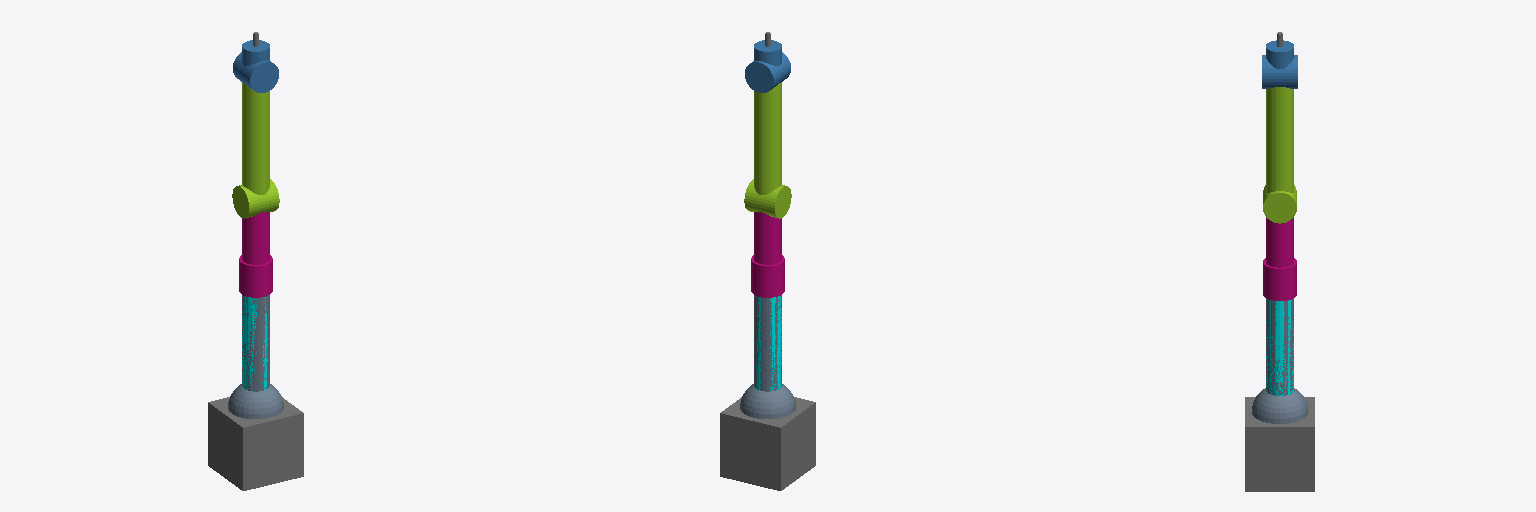
URDF robot description (test_robot):
<?xml version="1.0" ?>
<robot name="test_robot">
    <link name="base_link">
        <inertial>
            <mass value="1.0"/>
            <inertia ixx="0.010416666666666666" iyy="0.010416666666666666" izz="0.010416666666666666" ixy="0.0" ixz="0.0" iyz="0.0"/>
            <origin xyz="0 0 0" rpy="0 0 0"/>
        </inertial>
        <visual>
            <origin xyz="0 0 0" rpy="0 0 0"/>
            <geometry>
                <box size="0.25 0.25 0.25"/>
            </geometry>
            <material name="gray">
                <color rgba="0.5 0.5 0.5 1"/>
            </material>
        </visual>
    </link>
    <joint name="sph_joint_x_1" type="revolute">
        <parent link="base_link"/>
        <child link="sph_link_x_1"/>
        <origin xyz="0 0 0.125" rpy="0 0 0"/>
        <axis xyz="1 0 0"/>
        <limit lower="-3.14" upper="3.14" effort="10" velocity="1"/>
    </joint>
    <link name="sph_link_x_1">
        <inertial>
            <mass value="0.001"/>
            <inertia ixx="4.000000000000001e-06" iyy="4.000000000000001e-06" izz="4.000000000000001e-06" ixy="0.0" ixz="0.0" iyz="0.0"/>
            <origin xyz="0 0 0" rpy="0 0 0"/>
        </inertial>
        <visual>
            <origin xyz="0 0 0" rpy="0 0 0"/>
            <geometry>
                <sphere radius="0.1"/>
            </geometry>
            <material name="lightslategray">
                <color rgba="0.4666666666666667 0.5333333333333333 0.6 1.0"/>
            </material>
        </visual>
    </link>
    <joint name="sph_joint_y_1" type="revolute">
        <parent link="sph_link_x_1"/>
        <child link="sph_link_y_1"/>
        <origin xyz="0 0 0" rpy="0 0 0"/>
        <axis xyz="0 1 0"/>
        <limit lower="-3.14" upper="3.14" effort="10" velocity="1"/>
    </joint>
    <link name="sph_link_y_1">
        <inertial>
            <mass value="0.001"/>
            <inertia ixx="4.000000000000001e-06" iyy="4.000000000000001e-06" izz="4.000000000000001e-06" ixy="0.0" ixz="0.0" iyz="0.0"/>
            <origin xyz="0 0 0" rpy="0 0 0"/>
        </inertial>
        <visual>
            <origin xyz="0 0 0" rpy="0 0 0"/>
            <geometry>
                <sphere radius="0.1"/>
            </geometry>
            <material name="lightslategray">
                <color rgba="0.4666666666666667 0.5333333333333333 0.6 1.0"/>
            </material>
        </visual>
    </link>
    <joint name="sph_joint_z_1" type="revolute">
        <parent link="sph_link_y_1"/>
        <child link="sph_link_z_1"/>
        <origin xyz="0 0 0" rpy="0 0 0"/>
        <axis xyz="0 0 1"/>
        <limit lower="-3.14" upper="3.14" effort="10" velocity="1"/>
    </joint>
    <link name="sph_link_z_1">
        <inertial>
            <mass value="0.001"/>
            <inertia ixx="4.000000000000001e-06" iyy="4.000000000000001e-06" izz="4.000000000000001e-06" ixy="0.0" ixz="0.0" iyz="0.0"/>
            <origin xyz="0 0 0" rpy="0 0 0"/>
        </inertial>
        <visual>
            <origin xyz="0 0 0" rpy="0 0 0"/>
            <geometry>
                <sphere radius="0.1"/>
            </geometry>
            <material name="lightslategray">
                <color rgba="0.4666666666666667 0.5333333333333333 0.6 1.0"/>
            </material>
        </visual>
    </link>
    <joint name="joint0" type="fixed">
        <parent link="sph_link_z_1"/>
        <child link="link0"/>
        <origin xyz="0 0 0" rpy="0 0 0"/>
    </joint>
    <link name="link0">
        <inertial>
            <mass value="1.0"/>
            <inertia ixx="0.021458333333333333" iyy="0.021458333333333333" izz="0.0012500000000000002" ixy="0.0" ixz="0.0" iyz="0.0"/>
            <origin xyz="0 0 0.25" rpy="0 0 0"/>
        </inertial>
        <visual>
            <origin xyz="0 0 0.25" rpy="0 0 0"/>
            <geometry>
                <cylinder length="0.5" radius="0.05"/>
            </geometry>
            <material name="lightslategray">
                <color rgba="0.4666666666666667 0.5333333333333333 0.6 1.0"/>
            </material>
        </visual>
        <collision>
            <origin xyz="0 0 0.25" rpy="0 0 0"/>
            <geometry>
                <cylinder length="0.5" radius="0.05"/>
            </geometry>
        </collision>
    </link>
    <joint name="joint1" type="prismatic">
        <parent link="link0"/>
        <child link="link1"/>
        <origin xyz="0 0 0.061" rpy="0 0 0"/>
        <axis xyz="0 0 1"/>
        <limit lower="0" upper="0.45" effort="10" velocity="1"/>
    </joint>
    <link name="link1">
        <inertial>
            <mass value="1.0"/>
            <inertia ixx="0.018335083333333335" iyy="0.018335083333333335" izz="0.0012500000000000002" ixy="0.0" ixz="0.0" iyz="0.0"/>
            <origin xyz="0 0 0.2305" rpy="0 0 0"/>
        </inertial>
        <visual>
            <origin xyz="0 0 0.2305" rpy="0 0 0"/>
            <geometry>
                <cylinder length="0.461" radius="0.05"/>
            </geometry>
            <material name="aqua">
                <color rgba="0.0 1.0 1.0 1.0"/>
            </material>
        </visual>
        <collision>
            <origin xyz="0 0 0.2305" rpy="0 0 0"/>
            <geometry>
                <cylinder length="0.461" radius="0.05"/>
            </geometry>
        </collision>
    </link>
    <joint name="joint_viz2" type="fixed">
        <parent link="link1"/>
        <child link="joint_viz_link2"/>
        <origin xyz="0 0 0.461" rpy="0 0 0"/>
    </joint>
    <link name="joint_viz_link2">
        <inertial>
            <mass value="0.0"/>
            <inertia ixx="0.0" iyy="0.0" izz="0.0" ixy="0.0" ixz="0.0" iyz="0.0"/>
            <origin xyz="0 0 0" rpy="0 0 0"/>
        </inertial>
        <visual>
            <origin xyz="0 0 0" rpy="0 0 0"/>
            <geometry>
                <cylinder length="0.125" radius="0.06"/>
            </geometry>
            <material name="mediumvioletred">
                <color rgba="0.7803921568627451 0.08235294117647059 0.5215686274509804 1.0"/>
            </material>
        </visual>
    </link>
    <joint name="joint2" type="revolute">
        <parent link="link1"/>
        <child link="link2"/>
        <origin xyz="0 0 0.461" rpy="0 0 0"/>
        <axis xyz="0 0 1"/>
        <limit lower="-3.14" upper="3.14" effort="10" velocity="1"/>
    </joint>
    <link name="link2">
        <inertial>
            <mass value="1.0"/>
            <inertia ixx="0.008125" iyy="0.008125" izz="0.0012500000000000002" ixy="0.0" ixz="0.0" iyz="0.0"/>
            <origin xyz="0 0 0.15" rpy="0 0 0"/>
        </inertial>
        <visual>
            <origin xyz="0 0 0.15" rpy="0 0 0"/>
            <geometry>
                <cylinder length="0.3" radius="0.05"/>
            </geometry>
            <material name="mediumvioletred">
                <color rgba="0.7803921568627451 0.08235294117647059 0.5215686274509804 1.0"/>
            </material>
        </visual>
        <collision>
            <origin xyz="0 0 0.15" rpy="0 0 0"/>
            <geometry>
                <cylinder length="0.3" radius="0.05"/>
            </geometry>
        </collision>
    </link>
    <joint name="joint_viz3" type="fixed">
        <parent link="link2"/>
        <child link="joint_viz_link3"/>
        <origin xyz="0 0 0.3" rpy="0 0 0"/>
    </joint>
    <link name="joint_viz_link3">
        <inertial>
            <mass value="0.0"/>
            <inertia ixx="0.0" iyy="0.0" izz="0.0" ixy="0.0" ixz="0.0" iyz="0.0"/>
            <origin xyz="0 0 0" rpy="0 1.57 0"/>
        </inertial>
        <visual>
            <origin xyz="0 0 0" rpy="0 1.57 0"/>
            <geometry>
                <cylinder length="0.125" radius="0.06"/>
            </geometry>
            <material name="yellowgreen">
                <color rgba="0.6039215686274509 0.803921568627451 0.19607843137254902 1.0"/>
            </material>
        </visual>
    </link>
    <joint name="joint3" type="revolute">
        <parent link="link2"/>
        <child link="link3"/>
        <origin xyz="0 0 0.3" rpy="0 0 0"/>
        <axis xyz="1 0 0"/>
        <limit lower="-3.14" upper="3.14" effort="10" velocity="1"/>
    </joint>
    <link name="link3">
        <inertial>
            <mass value="1.0"/>
            <inertia ixx="0.021458333333333333" iyy="0.021458333333333333" izz="0.0012500000000000002" ixy="0.0" ixz="0.0" iyz="0.0"/>
            <origin xyz="0 0 0.25" rpy="0 0 0"/>
        </inertial>
        <visual>
            <origin xyz="0 0 0.25" rpy="0 0 0"/>
            <geometry>
                <cylinder length="0.5" radius="0.05"/>
            </geometry>
            <material name="yellowgreen">
                <color rgba="0.6039215686274509 0.803921568627451 0.19607843137254902 1.0"/>
            </material>
        </visual>
        <collision>
            <origin xyz="0 0 0.25" rpy="0 0 0"/>
            <geometry>
                <cylinder length="0.5" radius="0.05"/>
            </geometry>
        </collision>
    </link>
    <joint name="joint_viz4" type="fixed">
        <parent link="link3"/>
        <child link="joint_viz_link4"/>
        <origin xyz="0 0 0.5" rpy="0 0 0"/>
    </joint>
    <link name="joint_viz_link4">
        <inertial>
            <mass value="0.0"/>
            <inertia ixx="0.0" iyy="0.0" izz="0.0" ixy="0.0" ixz="0.0" iyz="0.0"/>
            <origin xyz="0 0 0" rpy="1.57 0 0"/>
        </inertial>
        <visual>
            <origin xyz="0 0 0" rpy="1.57 0 0"/>
            <geometry>
                <cylinder length="0.125" radius="0.06"/>
            </geometry>
            <material name="steelblue">
                <color rgba="0.27450980392156865 0.5098039215686274 0.7058823529411765 1.0"/>
            </material>
        </visual>
    </link>
    <joint name="joint4" type="revolute">
        <parent link="link3"/>
        <child link="link4"/>
        <origin xyz="0 0 0.5" rpy="0 0 0"/>
        <axis xyz="0 1 0"/>
        <limit lower="-3.14" upper="3.14" effort="10" velocity="1"/>
    </joint>
    <link name="link4">
        <inertial>
            <mass value="1.0"/>
            <inertia ixx="0.0014583333333333334" iyy="0.0014583333333333334" izz="0.0012500000000000002" ixy="0.0" ixz="0.0" iyz="0.0"/>
            <origin xyz="0 0 0.05" rpy="0 0 0"/>
        </inertial>
        <visual>
            <origin xyz="0 0 0.05" rpy="0 0 0"/>
            <geometry>
                <cylinder length="0.1" radius="0.05"/>
            </geometry>
            <material name="steelblue">
                <color rgba="0.27450980392156865 0.5098039215686274 0.7058823529411765 1.0"/>
            </material>
        </visual>
        <collision>
            <origin xyz="0 0 0.05" rpy="0 0 0"/>
            <geometry>
                <cylinder length="0.1" radius="0.05"/>
            </geometry>
        </collision>
    </link>
    <joint name="probe_joint" type="fixed">
        <parent link="link4"/>
        <child link="probe_link"/>
        <origin xyz="0 0 0.1" rpy="0 0 0"/>
    </joint>
    <link name="probe_link">
        <inertial>
            <mass value="0.0"/>
            <inertia ixx="0.0" iyy="0.0" izz="0.0" ixy="0.0" ixz="0.0" iyz="0.0"/>
            <origin xyz="0 0 0" rpy="0 0 0"/>
        </inertial>
        <visual>
            <origin xyz="0 0 0" rpy="0 0 0"/>
            <geometry>
                <cylinder length="0.1" radius="0.01"/>
            </geometry>
            <material name="gray">
                <color rgba="0.5 0.5 0.5 1"/>
            </material>
        </visual>
    </link>
    <joint name="end_effector_joint" type="fixed">
        <parent link="probe_link"/>
        <child link="end_effector"/>
        <origin xyz="0 0 0.1" rpy="0 0 0"/>
    </joint>
    <link name="end_effector">
        <inertial>
            <mass value="0.0"/>
            <inertia ixx="0.0" iyy="0.0" izz="0.0" ixy="0.0" ixz="0.0" iyz="0.0"/>
            <origin xyz="0 0 0" rpy="0 0 0"/>
        </inertial>
        <visual>
            <origin xyz="0 0 0" rpy="0 0 0"/>
            <geometry>
                <cylinder length="0" radius="0"/>
            </geometry>
            <material name="gray">
                <color rgba="0.5 0.5 0.5 1"/>
            </material>
        </visual>
    </link>
</robot>

--- Facts derived from the render (not from the file) ---
3 views of the same robot in one strip: view 1: azimuth 30°, elevation 25°; view 2: azimuth 150°, elevation 25°; view 3: azimuth 270°, elevation 25° (orthographic).
Model test_robot with 14 links and 13 joints (6 revolute, 1 prismatic, 6 fixed), rooted at base_link, posed every joint at zero.
Visible links, largest first — view 1: base_link, link3, link0, sph_link_x_1, link2, joint_viz_link2, joint_viz_link3, joint_viz_link4, link1, link4; view 2: base_link, link3, link0, sph_link_x_1, link2, joint_viz_link2, joint_viz_link3, joint_viz_link4, link1, link4; view 3: base_link, link3, sph_link_x_1, link0, link1, link2, joint_viz_link2, joint_viz_link3, joint_viz_link4, link4.
Link boxes in pixels (<box>): base_link: <box>208,397,303,490</box>; link3: <box>242,82,269,194</box>; link0: <box>242,295,269,391</box>; sph_link_x_1: <box>228,384,283,418</box>; link2: <box>242,212,269,264</box>; joint_viz_link2: <box>239,255,272,297</box>; joint_viz_link3: <box>232,179,279,218</box>; joint_viz_link4: <box>233,52,278,92</box>; link1: <box>242,296,267,391</box>; link4: <box>242,40,269,66</box>; base_link: <box>720,397,815,490</box>; link3: <box>754,82,781,194</box>; link0: <box>754,295,781,391</box>; sph_link_x_1: <box>740,384,795,418</box>; link2: <box>754,212,781,264</box>; joint_viz_link2: <box>751,255,784,297</box>; joint_viz_link3: <box>744,179,791,218</box>; joint_viz_link4: <box>745,52,790,92</box>; link1: <box>756,296,781,390</box>; link4: <box>754,40,781,66</box>; base_link: <box>1245,397,1314,491</box>; link3: <box>1266,87,1293,192</box>; sph_link_x_1: <box>1252,388,1307,423</box>; link0: <box>1266,298,1293,395</box>; link1: <box>1266,300,1293,395</box>; link2: <box>1266,217,1293,267</box>; joint_viz_link2: <box>1263,258,1296,300</box>; joint_viz_link3: <box>1263,185,1296,223</box>; joint_viz_link4: <box>1262,55,1297,88</box>; link4: <box>1266,40,1293,68</box>.
Size in the robot's own frame: 0.25 by 0.25 by 1.77 metres.
Geometry: primitives only (box / cylinder / sphere), no mesh files.